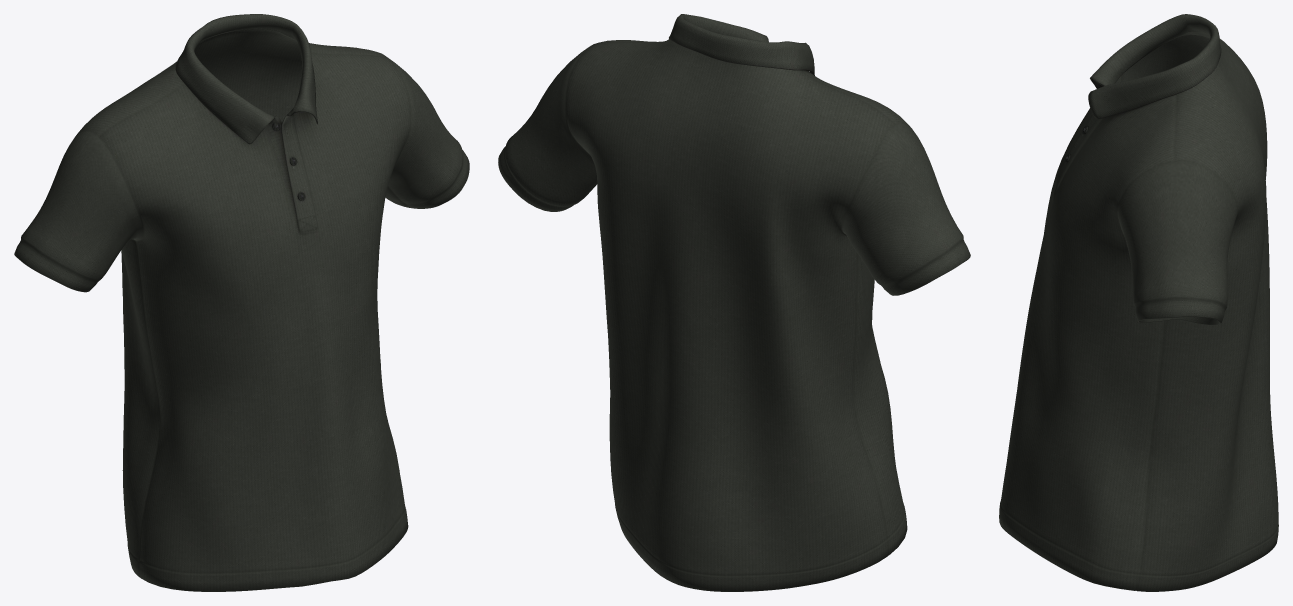
The picture shows the model from 3 angles, left to right: view 1: azimuth 30°, elevation 25°; view 2: azimuth 150°, elevation 25°; view 3: azimuth 270°, elevation 25°; orthographic projection. The views are drawn at different scales.
Visible parts, largest first — view 1: Polo Shirt.001_0; view 2: Polo Shirt.001_0; view 3: Polo Shirt.001_0.
Boxes of the visible parts, <box> form: Polo Shirt.001_0: <box>14,14,469,591</box>; Polo Shirt.001_0: <box>498,14,970,591</box>; Polo Shirt.001_0: <box>999,14,1278,591</box>.
Size of the model in its own units: 0.6433 by 0.7101 by 0.3541.
2 materials, 2 textured.
